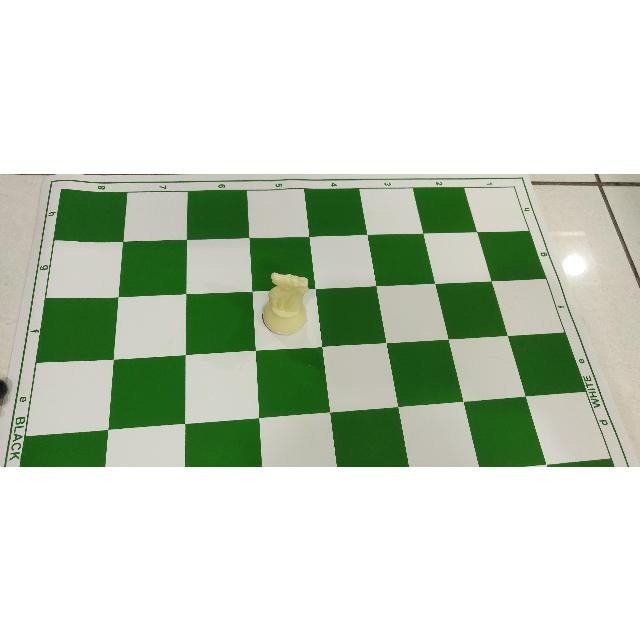white-knight: (262, 271, 310, 335)
